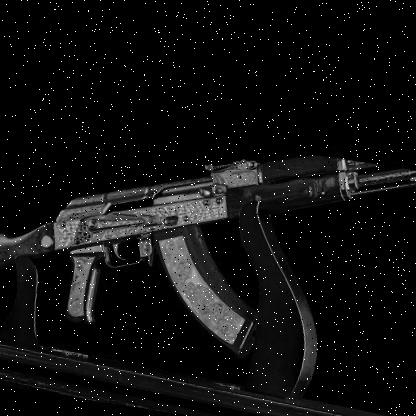rifle: (0, 117, 387, 416)
